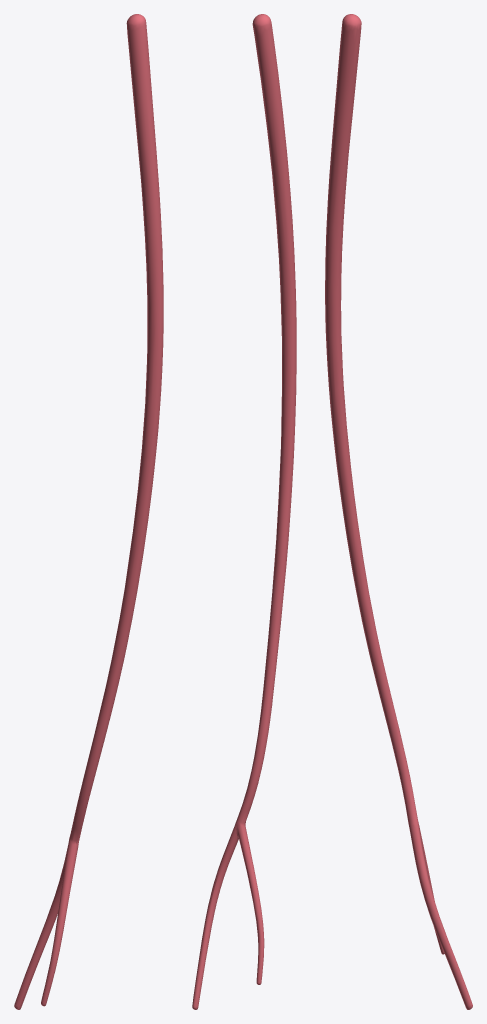
The model's file is fma4083_fj1971.glb.
3 views of the same model, side by side, from view 1: azimuth 90°, elevation 25°; view 2: azimuth 150°, elevation 25°; view 3: azimuth 270°, elevation 25° (orthographic). The views are drawn at different scales.
Visible parts, largest first — view 1: FMA4083_FJ1971; view 2: FMA4083_FJ1971; view 3: FMA4083_FJ1971.
Boxes of the visible parts, bbox=[...] form: FMA4083_FJ1971: bbox=[14, 14, 163, 1009]; FMA4083_FJ1971: bbox=[192, 14, 296, 1009]; FMA4083_FJ1971: bbox=[325, 14, 472, 1009].
Bounding box in the file's own units: 0.0105 × 0.1663 × 0.0225.
